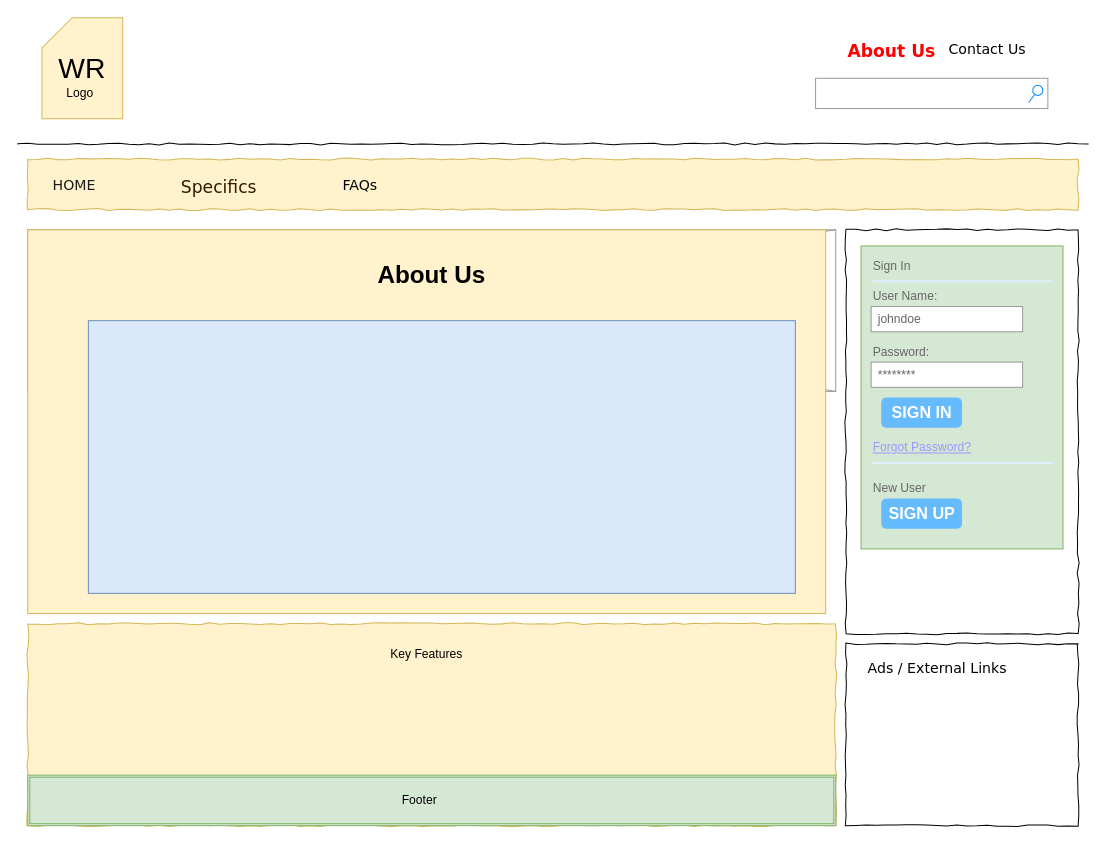
Some shapes in this 1106 by 843 pixel diagram are drawn without their labels. The centre of each missing label's shape, as x and y in pixels:
Search: the point at 931,93
Value 1 Value 2 Value 3: the point at 441,456
